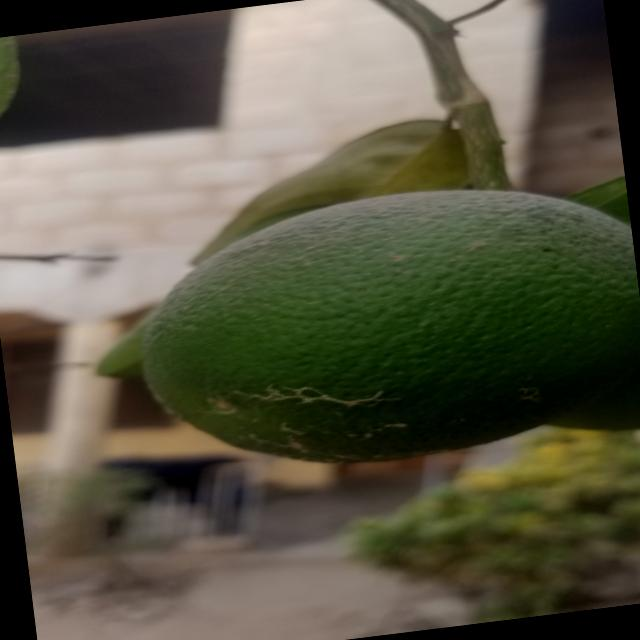Unripe: (133, 162, 640, 488)
